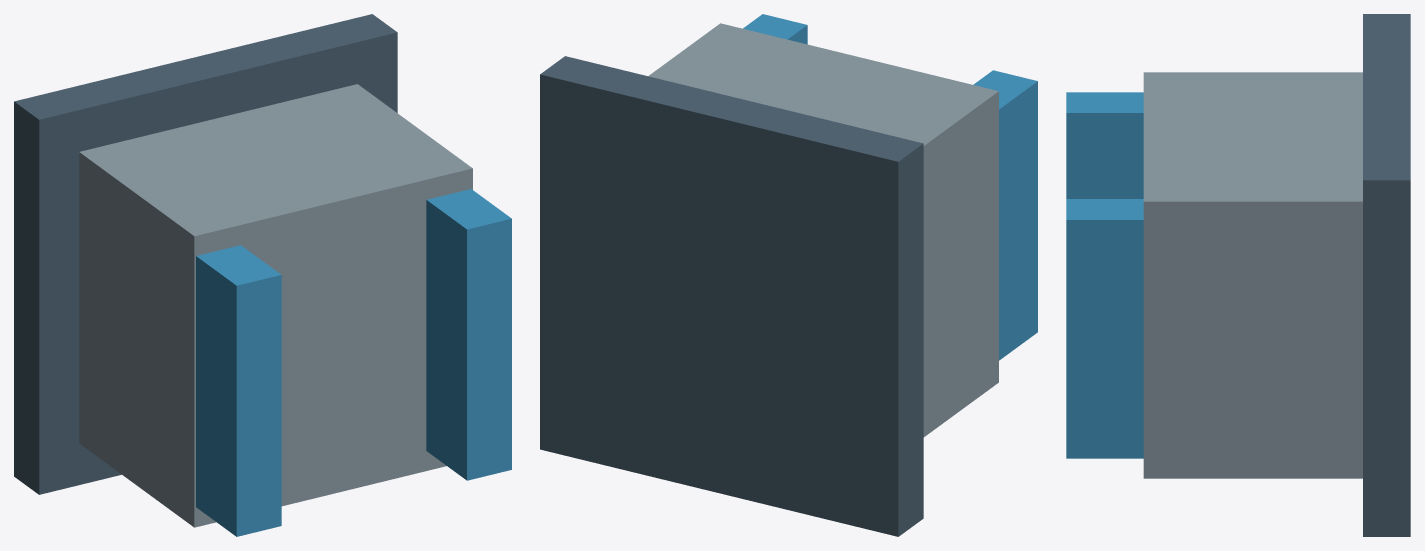
The model's file is b_defense_stage2.glb.
3 views of the same model, side by side, from view 1: azimuth 30°, elevation 25°; view 2: azimuth 150°, elevation 25°; view 3: azimuth 270°, elevation 25° (orthographic). The views are drawn at different scales.
Visible parts, largest first — view 1: main_structure, foundation, support_-0.8999999999999999, support_0.8999999999999999; view 2: foundation, main_structure, support_-0.8999999999999999, support_0.8999999999999999; view 3: main_structure, foundation, support_0.8999999999999999, support_-0.8999999999999999.
Part boxes in pixels (x1,y1,x2,y2): main_structure: [79, 84, 472, 527]; foundation: [14, 14, 397, 494]; support_-0.8999999999999999: [196, 245, 281, 536]; support_0.8999999999999999: [426, 189, 511, 480]; foundation: [540, 56, 923, 536]; main_structure: [648, 23, 998, 437]; support_-0.8999999999999999: [973, 70, 1037, 360]; support_0.8999999999999999: [743, 14, 807, 44]; main_structure: [1143, 72, 1362, 478]; foundation: [1363, 14, 1410, 536]; support_0.8999999999999999: [1066, 199, 1143, 458]; support_-0.8999999999999999: [1066, 92, 1143, 198].
Bounding box in the file's own units: 2.8 × 2.8 × 2.45.
